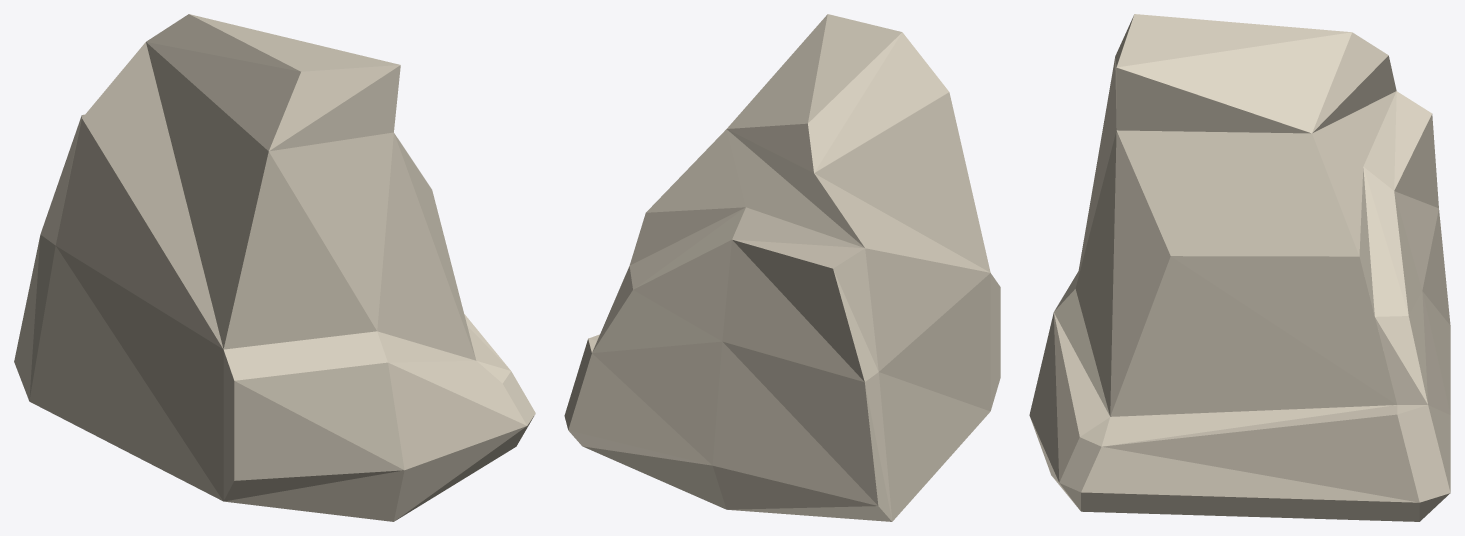
File: rock-2.glb
3 views of the same model, side by side, from view 1: azimuth 30°, elevation 25°; view 2: azimuth 150°, elevation 25°; view 3: azimuth 270°, elevation 25° (orthographic). The views are drawn at different scales.
Visible parts, largest first — view 1: Rock_2; view 2: Rock_2; view 3: Rock_2.
Boxes of the visible parts, x1,y1,x2,y2 form: Rock_2: (14,14,535,521); Rock_2: (564,14,1000,521); Rock_2: (1029,14,1450,521).
Size of the model in its own units: 0.5614 by 0.6456 by 0.5651.
